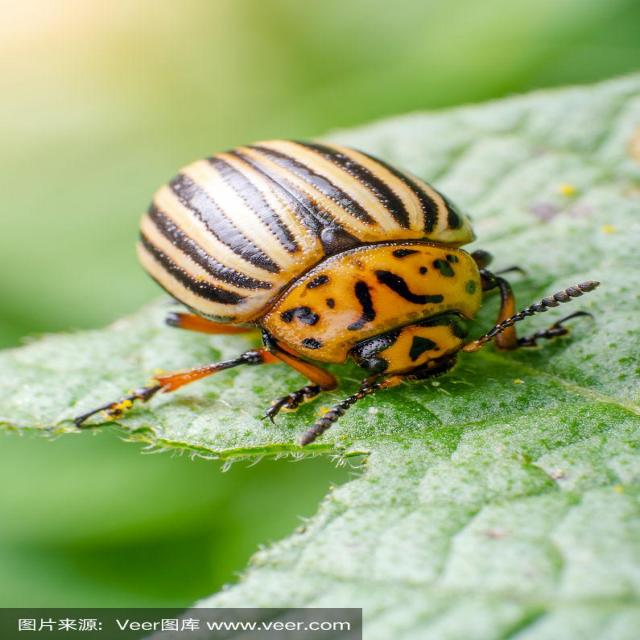ShuCaiHuaBanChong-Grown-: (105, 134, 518, 409)
